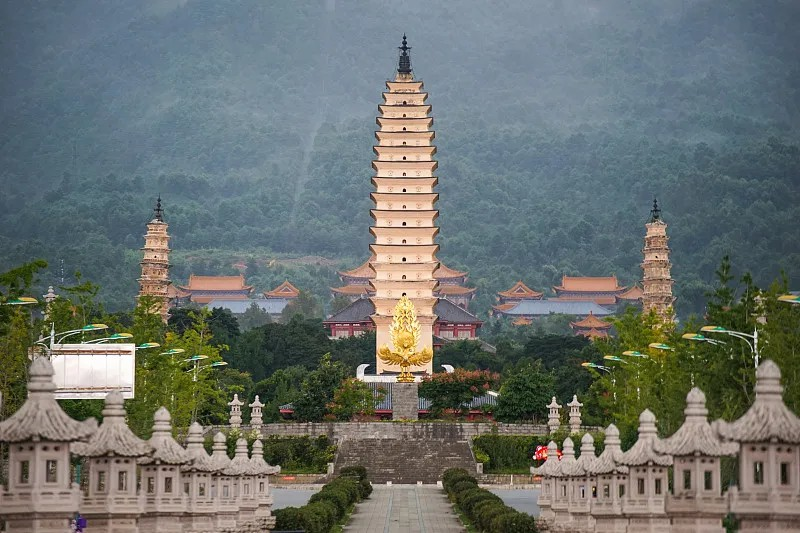ThreePagoda: (368, 31, 440, 374)
